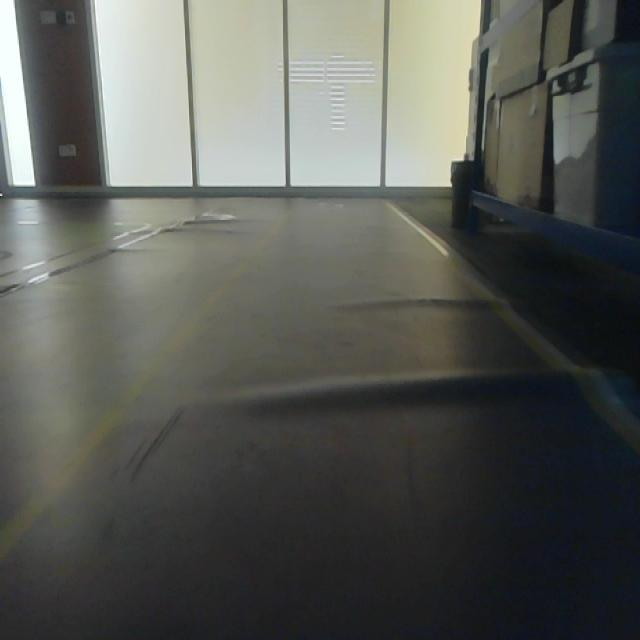left_lane: (0, 219, 280, 567)
right_lane: (385, 201, 638, 455)
